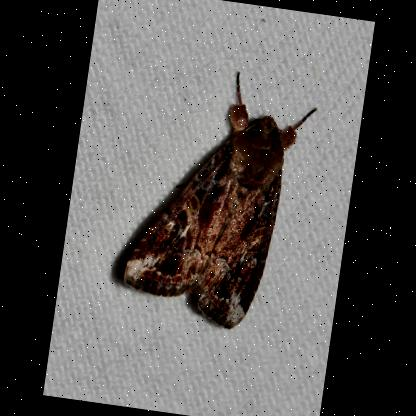Fall Armyworm Moth: (113, 54, 324, 341)
